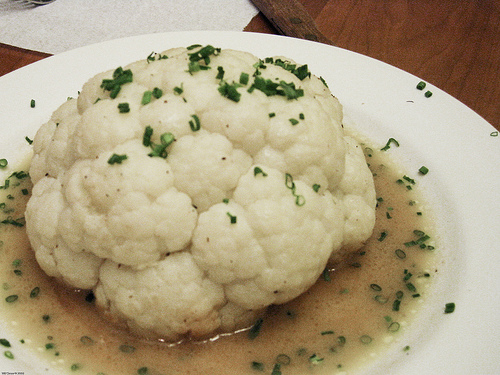cauliflower: (24, 42, 379, 340)
